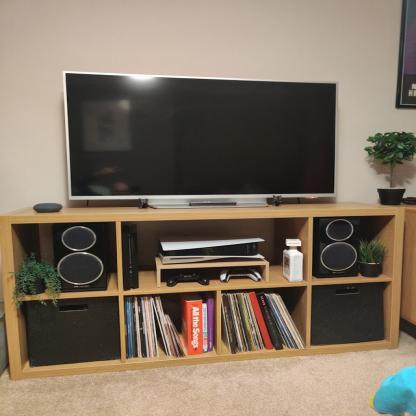lamp: (0, 205, 407, 382)
